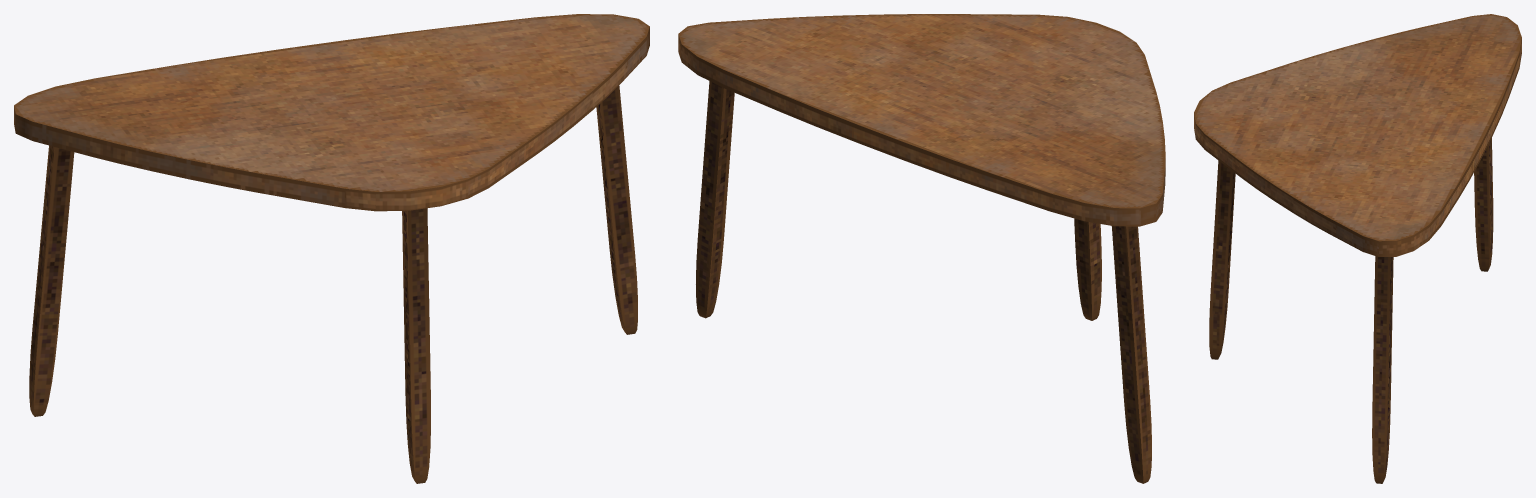
File: CoffeeTable.fbx
The picture shows the model from 3 angles, left to right: view 1: azimuth 30°, elevation 25°; view 2: azimuth 150°, elevation 25°; view 3: azimuth 270°, elevation 25°; orthographic projection. The views are drawn at different scales.
Parts seen in each view (by area): view 1: CoffeeTable00; view 2: CoffeeTable00; view 3: CoffeeTable00.
Boxes of the visible parts, box(x1,y1,x2,y2) form: CoffeeTable00: box(14, 14, 649, 483); CoffeeTable00: box(678, 14, 1165, 483); CoffeeTable00: box(1194, 14, 1521, 483).
Size of the model in its own units: 56.66 by 92.88 by 47.48.
